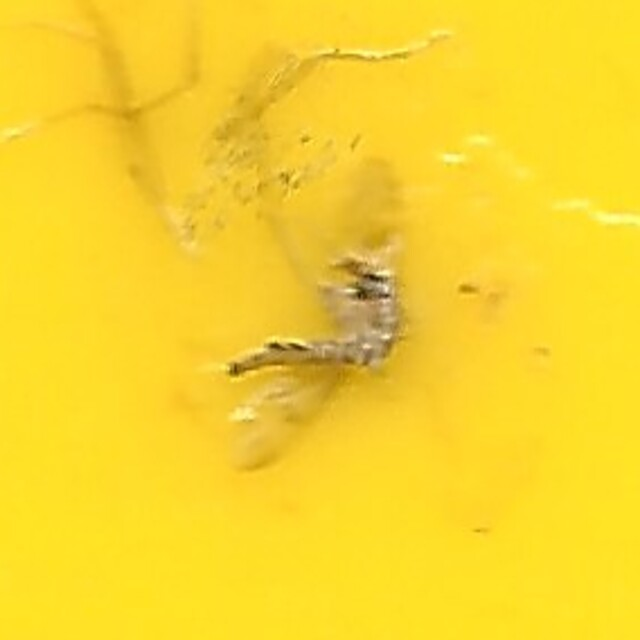Nematocera: (225, 245, 415, 395)
